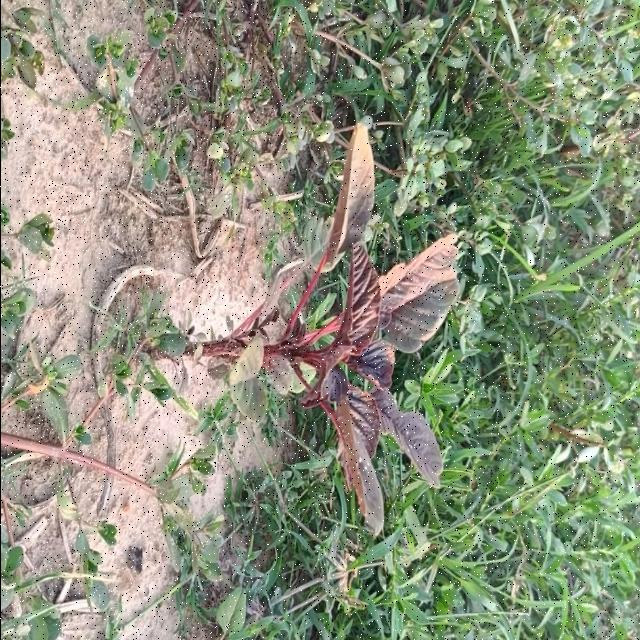plant: (194, 122, 459, 536), (313, 336, 333, 350)
